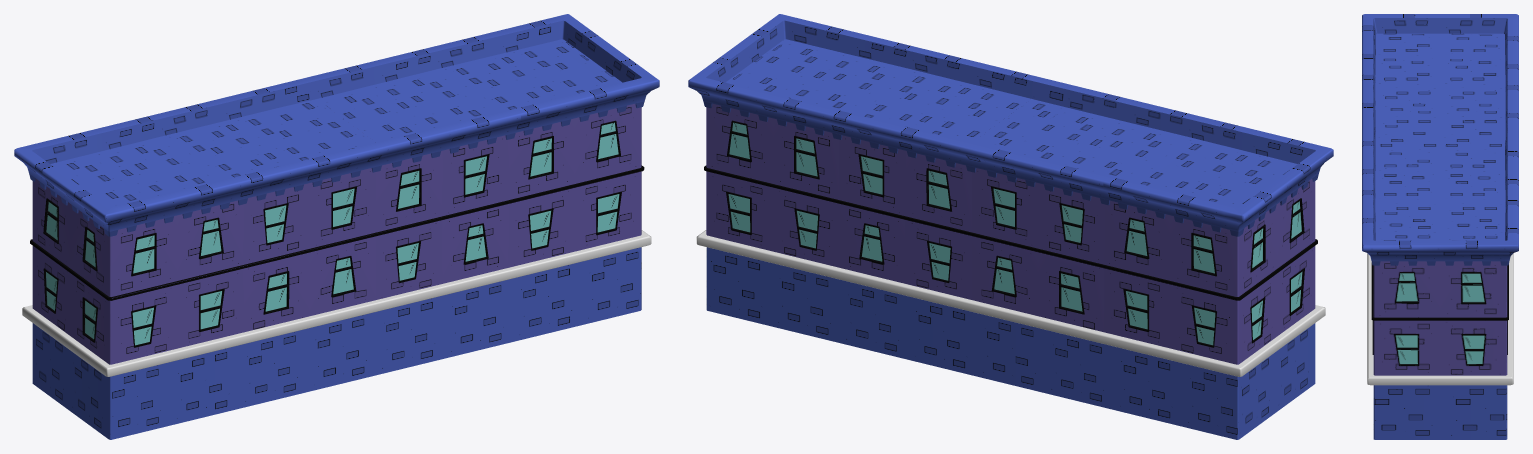
The model's file is 8x2w_Building.fbx.
The picture shows the model from 3 angles, left to right: view 1: azimuth 30°, elevation 25°; view 2: azimuth 150°, elevation 25°; view 3: azimuth 270°, elevation 25°; orthographic projection. The views are drawn at different scales.
Parts seen in each view (by area): view 1: Box157, Box165, Box156, Box158; view 2: Box157, Box165, Box156, Box158; view 3: Box165, Box157, Box156, Box158.
Part boxes in pixels (bbox=[...]): Box157: bbox=[30, 104, 644, 364]; Box165: bbox=[14, 14, 659, 236]; Box156: bbox=[32, 247, 641, 439]; Box158: bbox=[22, 230, 651, 376]; Box157: bbox=[704, 104, 1317, 364]; Box165: bbox=[688, 14, 1333, 236]; Box156: bbox=[706, 247, 1315, 439]; Box158: bbox=[696, 230, 1325, 376]; Box165: bbox=[1362, 14, 1518, 265]; Box157: bbox=[1371, 261, 1508, 375]; Box156: bbox=[1373, 385, 1507, 439]; Box158: bbox=[1367, 253, 1513, 385].
Bounding box in the file's own units: 20.56 × 8.23 × 5.87.
